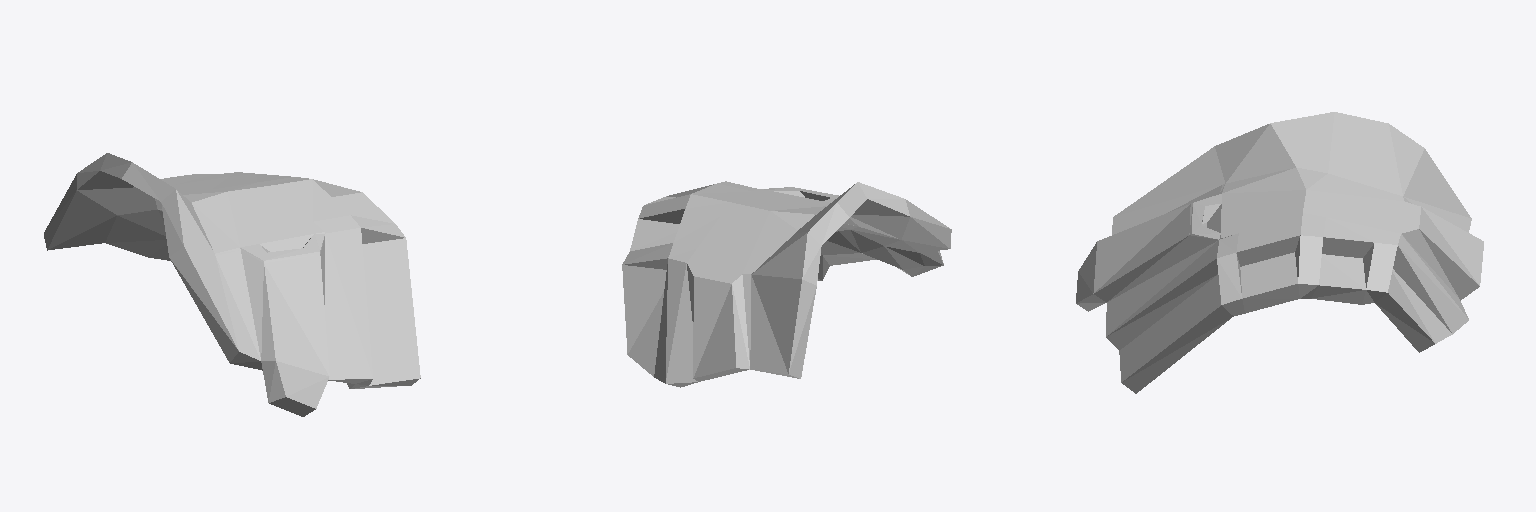
Rendered from Shoulder armor left.obj.
3 views of the same model, side by side, from view 1: azimuth 30°, elevation 25°; view 2: azimuth 150°, elevation 25°; view 3: azimuth 270°, elevation 25° (orthographic).
Visible parts, largest first — view 1: Plane.000; view 2: Plane.000; view 3: Plane.000.
Part boxes in pixels (bbox=[...]): Plane.000: bbox=[44, 153, 420, 416]; Plane.000: bbox=[622, 181, 951, 387]; Plane.000: bbox=[1076, 112, 1483, 393].
Size of the model in its own units: 0.3759 by 0.2887 by 0.5497.